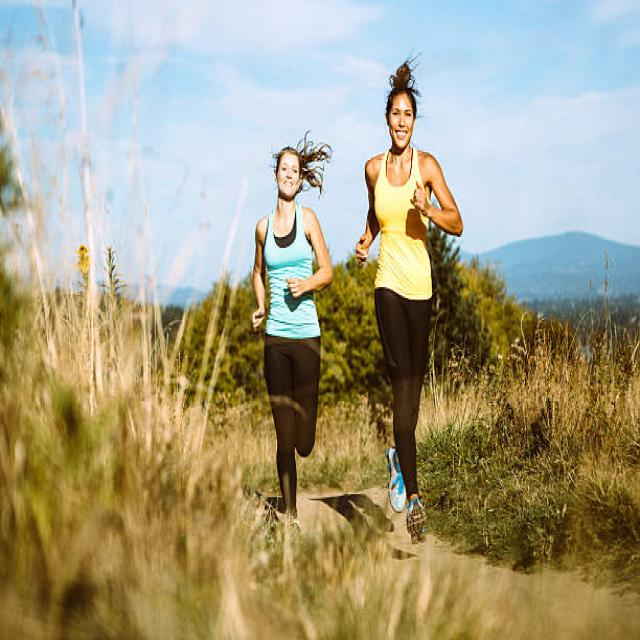running: (354, 64, 468, 546), (249, 144, 337, 524)
